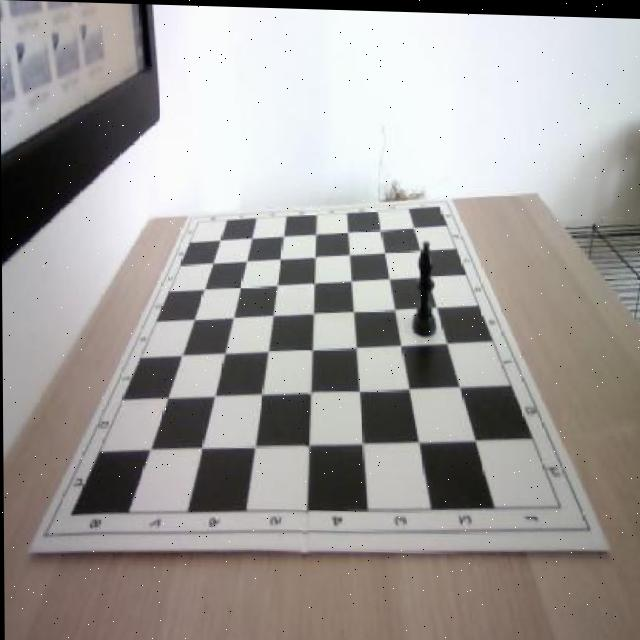bishop: (411, 236, 436, 335)
